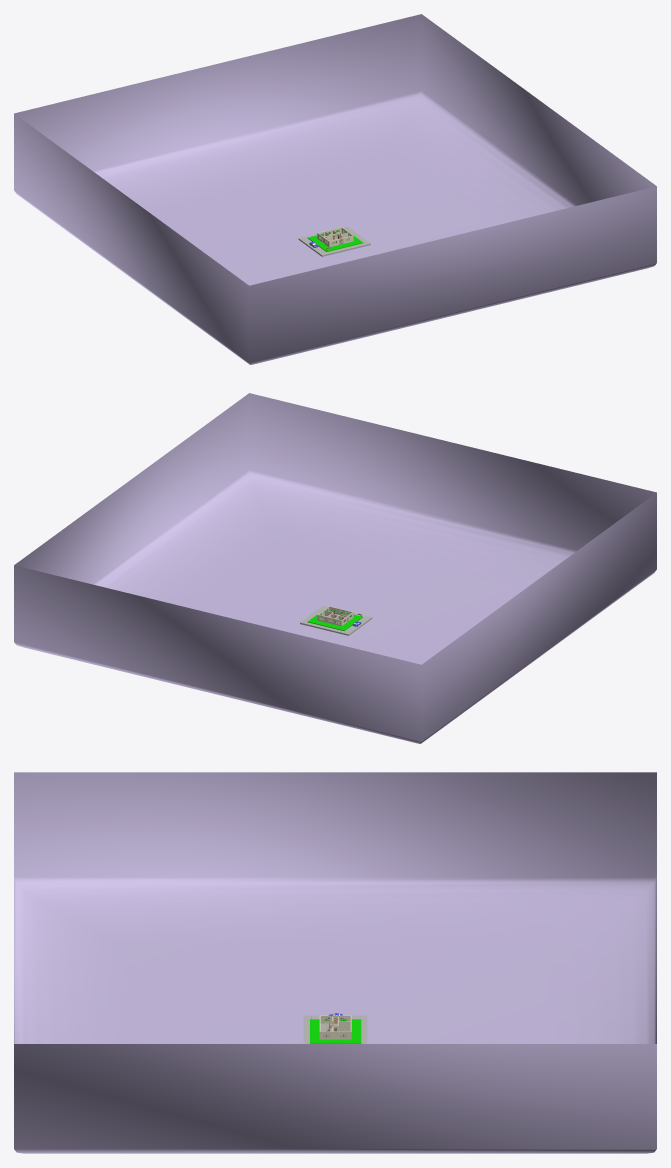
Rendered from House1F.glb.
3 views of the same model, one above another, from view 1: azimuth 30°, elevation 25°; view 2: azimuth 150°, elevation 25°; view 3: azimuth 270°, elevation 25° (orthographic). The views are drawn at different scales.
Visible parts, largest first — view 1: BG, Boarder; view 2: BG, Boarder; view 3: BG, IfcSite/Gelaende.
Part boxes in pixels (left/top/right/bottom): BG: left=14, top=14, right=656, bottom=364; Boarder: left=298, top=226, right=370, bottom=256; BG: left=14, top=393, right=656, bottom=743; Boarder: left=300, top=605, right=372, bottom=635; BG: left=14, top=772, right=656, bottom=1153; IfcSite/Gelaende: left=310, top=1019, right=361, bottom=1043.
Size of the model in its own units: 200 by 43.33 by 200.
